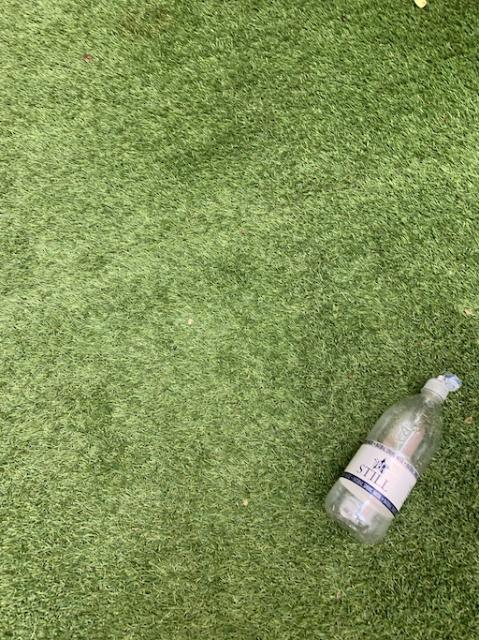plastic: (325, 373, 460, 542)
